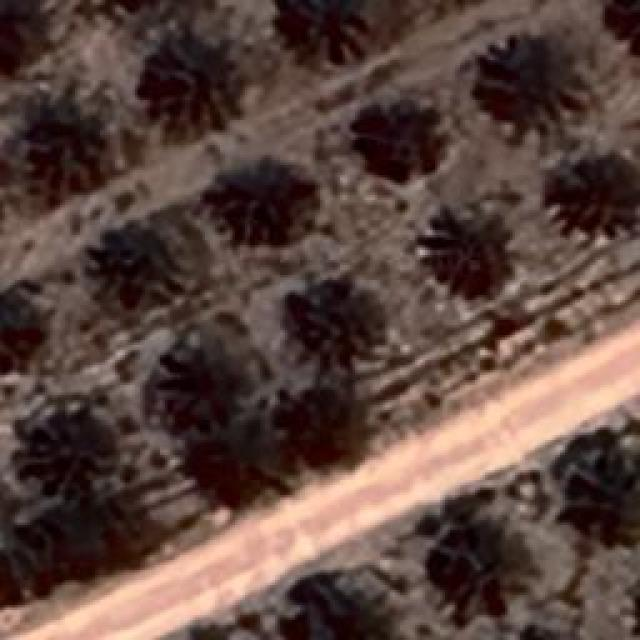PalmTree: (21, 34, 344, 618), (142, 22, 240, 136), (432, 522, 522, 620), (565, 450, 640, 552), (208, 162, 310, 236), (22, 416, 116, 489), (106, 222, 176, 306), (284, 0, 366, 70), (431, 212, 504, 290), (365, 95, 435, 175), (164, 328, 234, 402), (29, 104, 109, 168), (295, 282, 370, 346), (202, 429, 282, 489), (301, 388, 364, 462), (482, 46, 552, 112), (565, 156, 633, 222), (0, 284, 48, 366), (607, 0, 640, 54)
